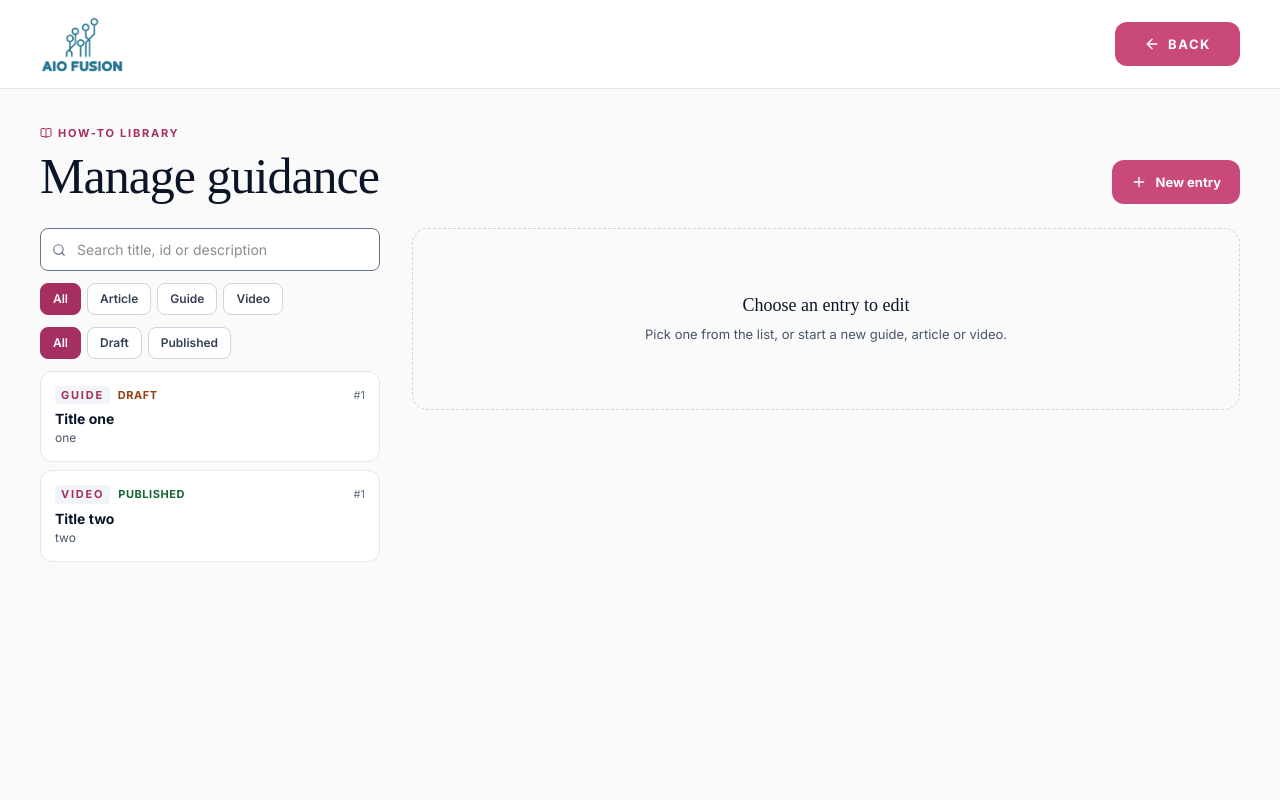
Test: HowtoAdminPage › defaults George availability on and saves an opt-out through the normal editor workflow
Click the button with test id "row-entry-one": (82,395) [40,371,380,462]
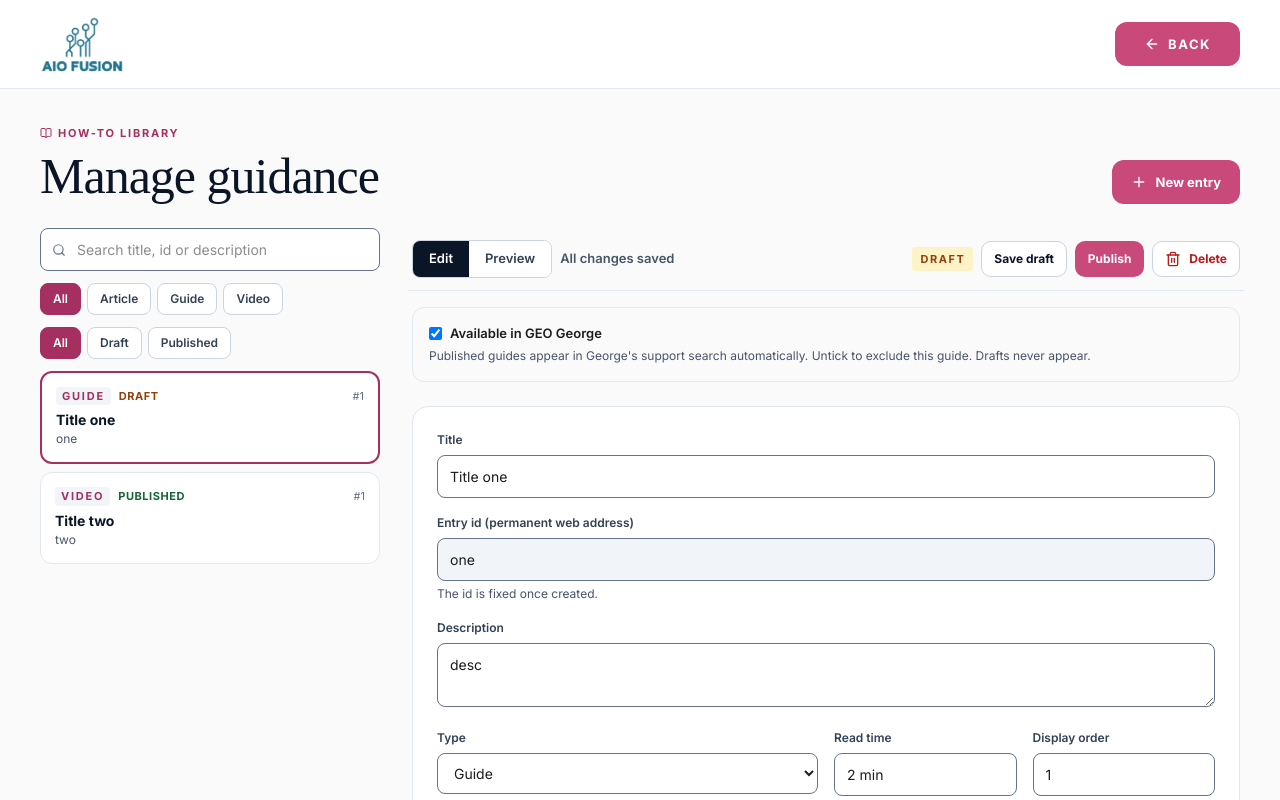
Expected: the checkbox with test id "input-include-george" is checked
Click the checkbox with test id "input-include-george": (436,333) [429,327,442,340]
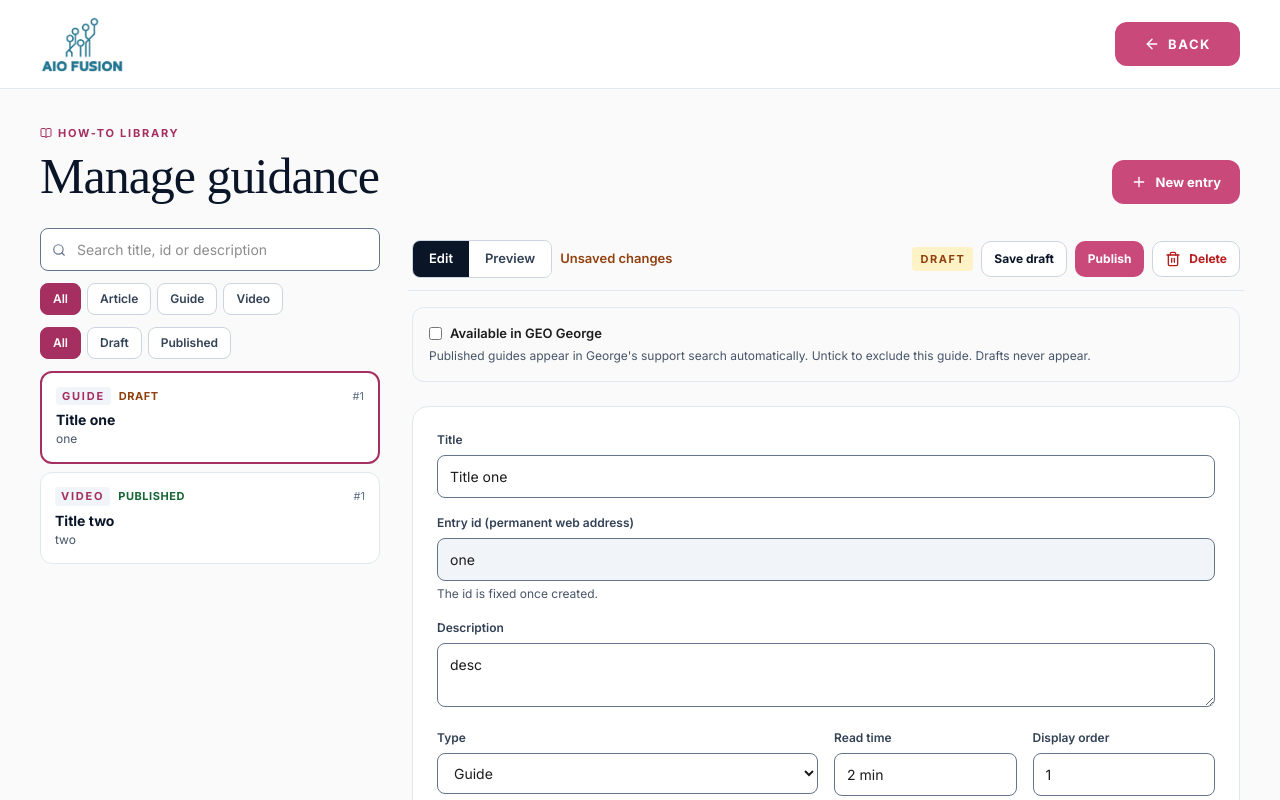
Expected: the checkbox with test id "input-include-george" is not checked, [429,327,442,340]
Click the button with test id "button-save": (1024,259) [981,241,1067,277]
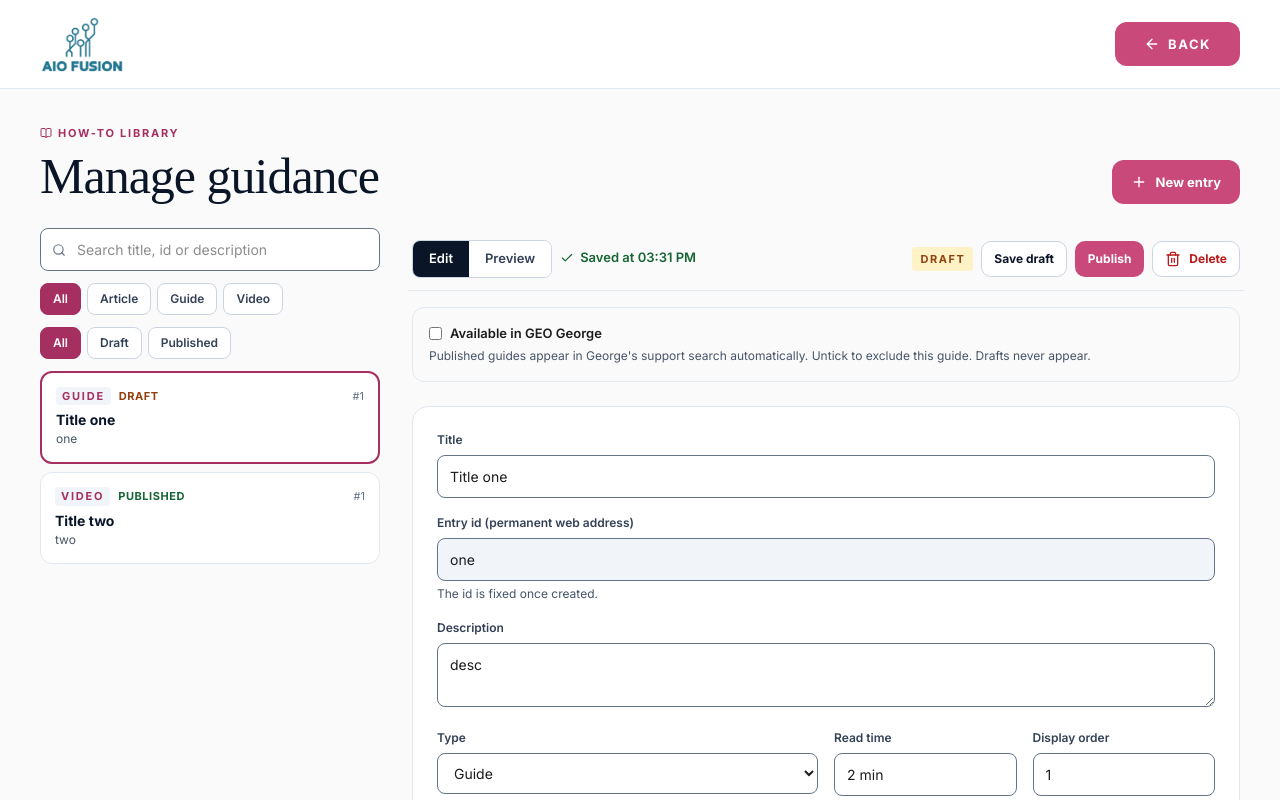
Click the button with test id "row-entry-two": (83,497) [40,472,380,564]
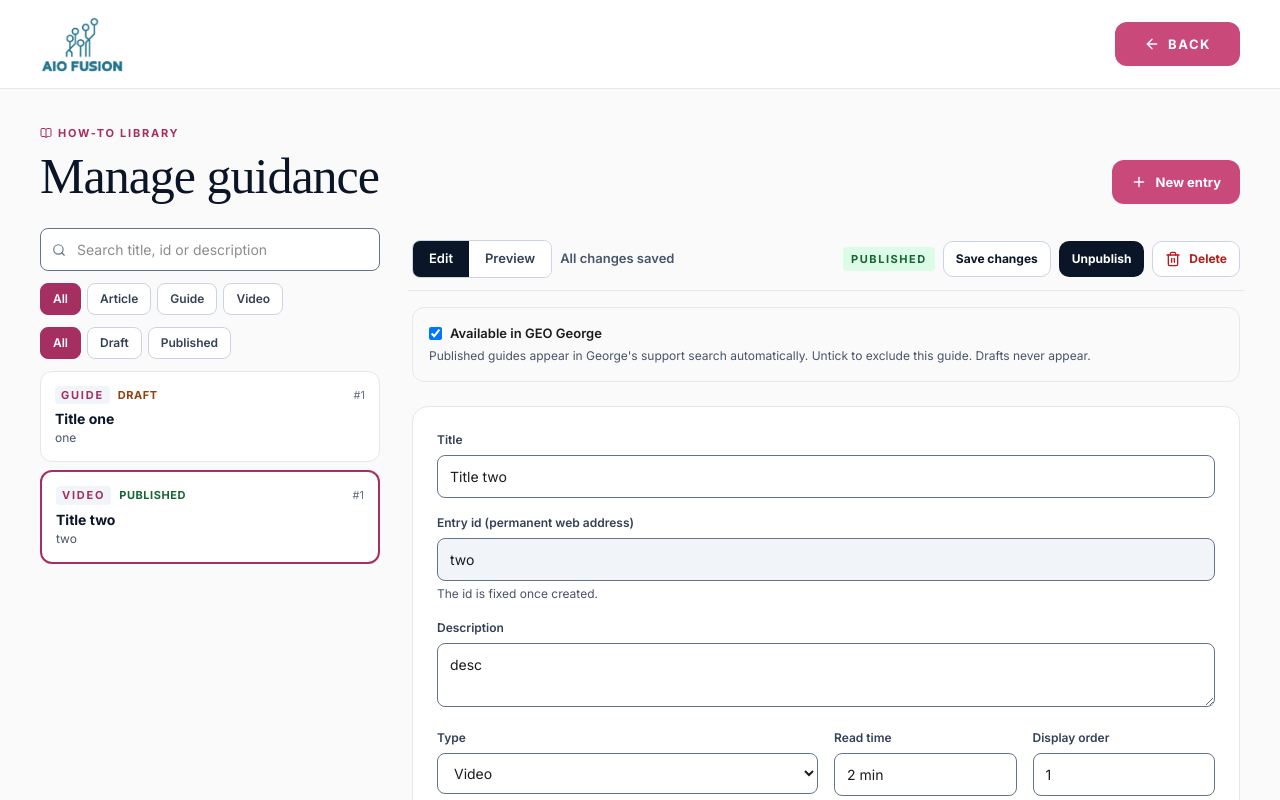
Click the button with test id "row-entry-one": (82,395) [40,371,380,462]
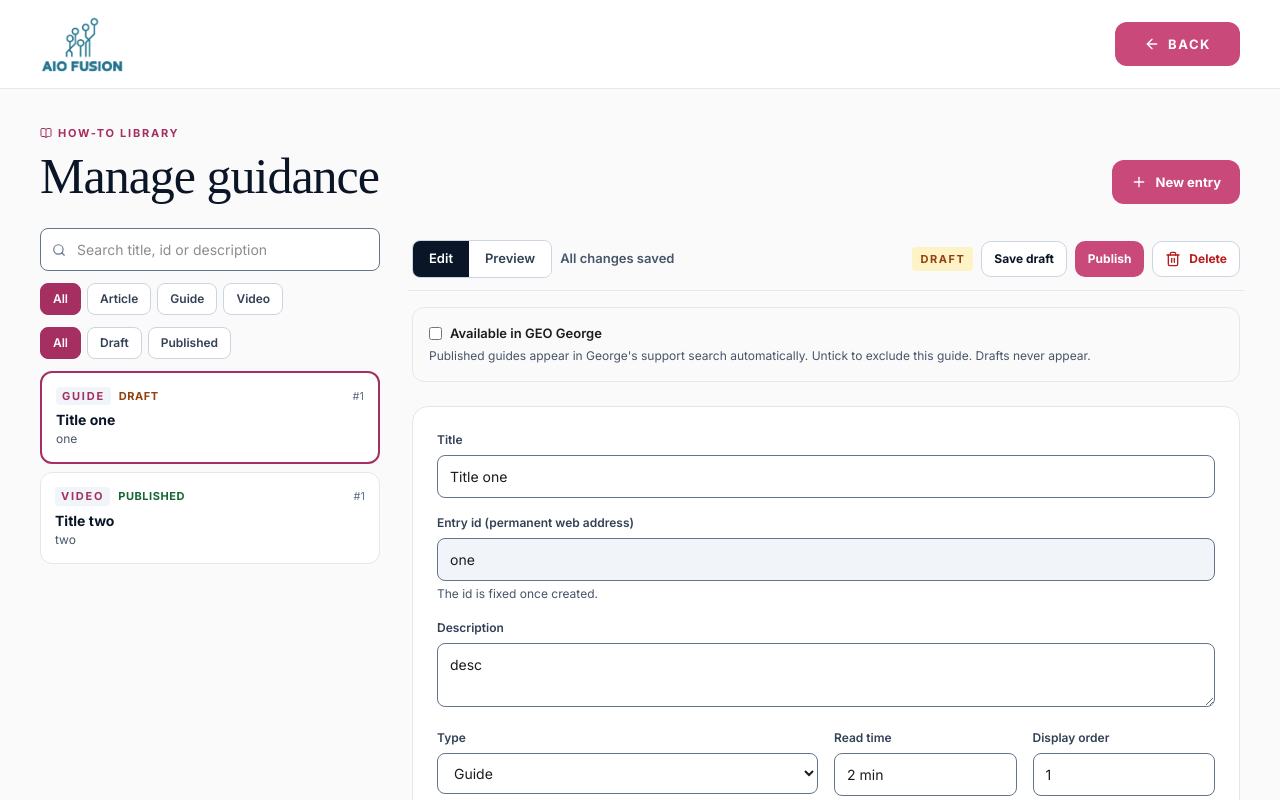
Expected: the checkbox with test id "input-include-george" is not checked, [429,327,442,340]
Click the button with test id "button-new-entry": (1176,182) [1112,160,1240,204]
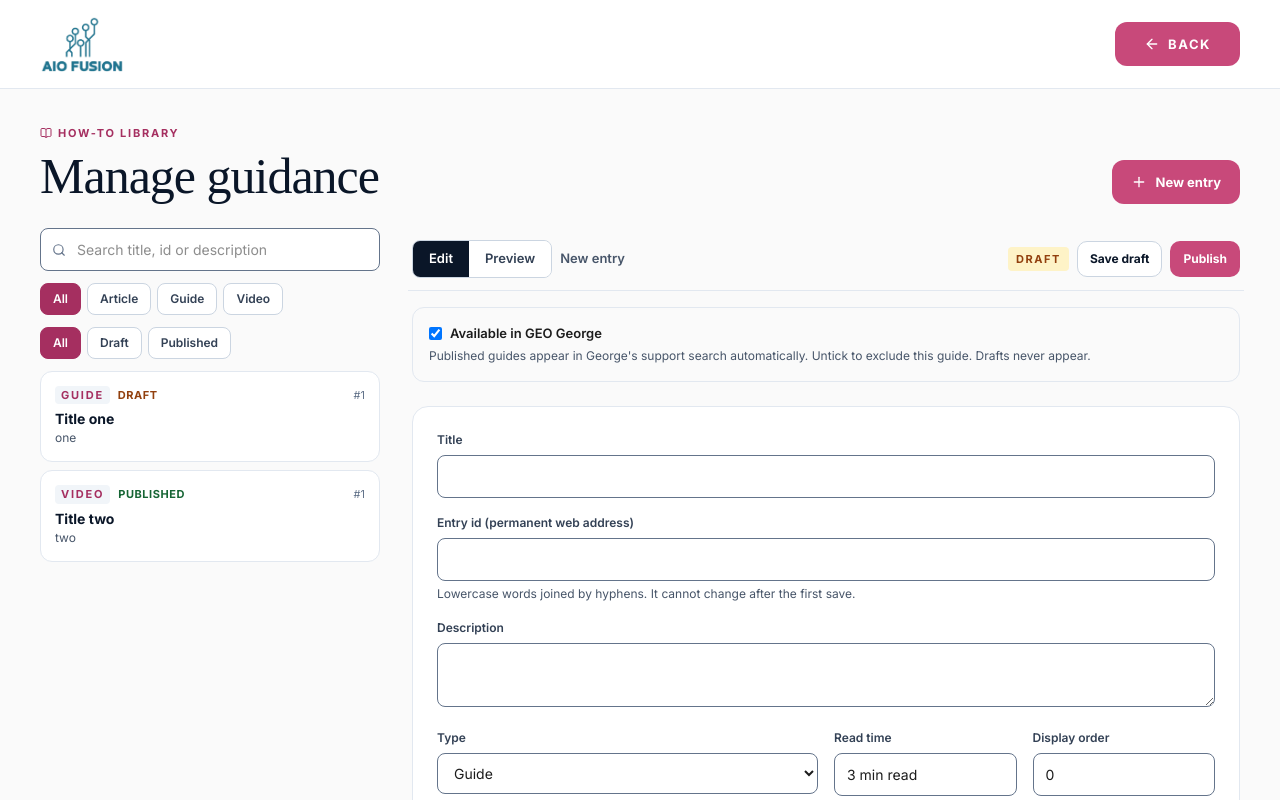
Expected: the checkbox with test id "input-include-george" is checked, [429,327,442,340]
